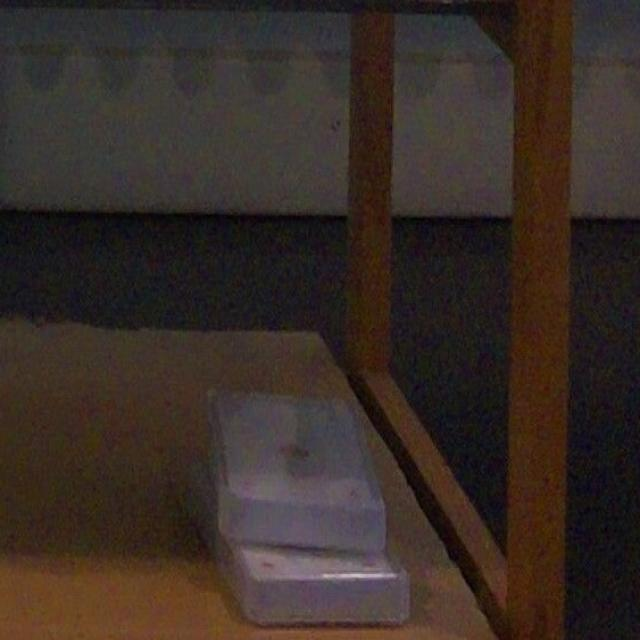Jasskarte: (209, 393, 384, 552), (207, 533, 409, 625)
